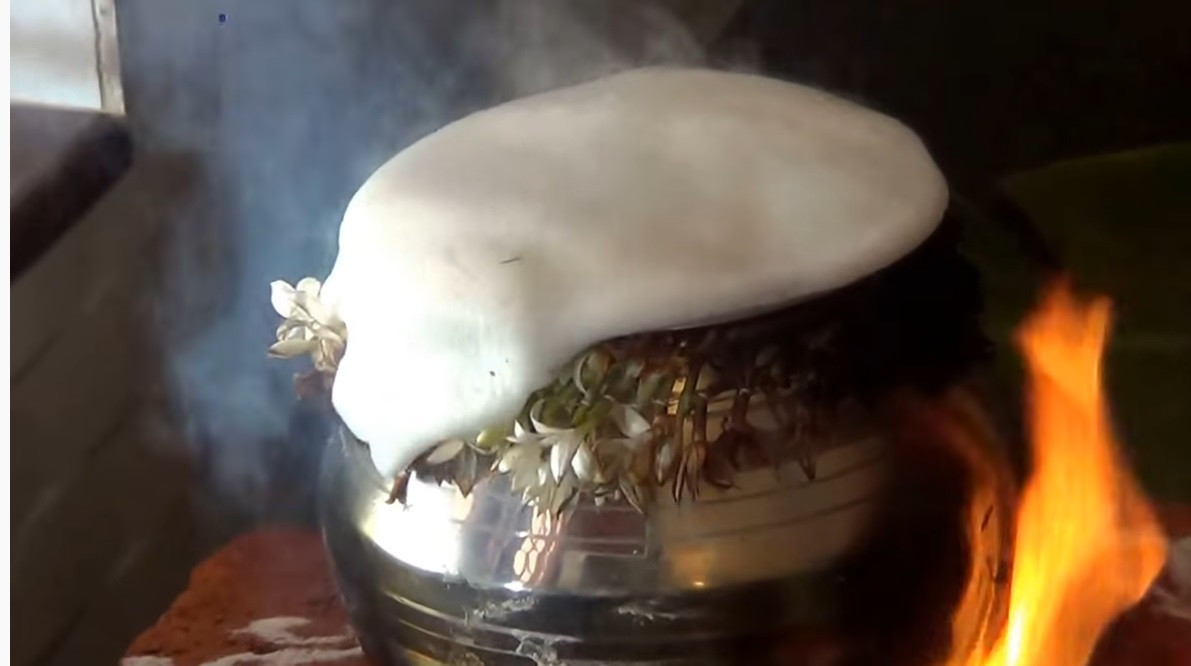Boiled: (324, 39, 944, 535)
